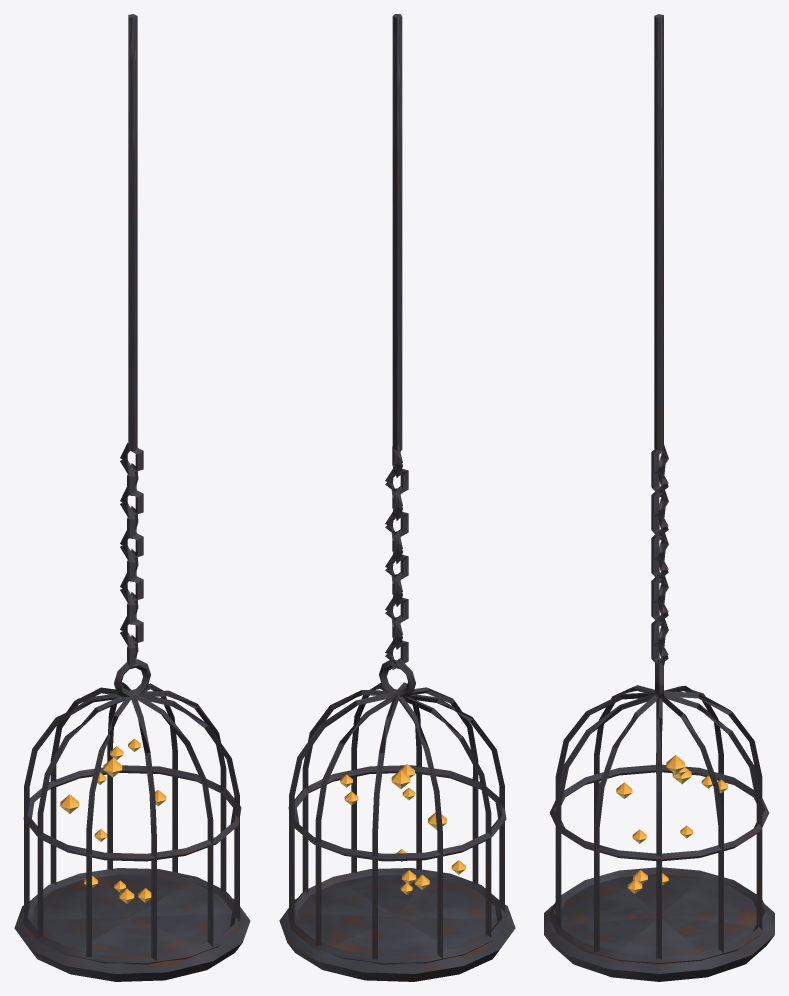
File: Lamp_Fireflies.fbx
The picture shows the model from 3 angles, left to right: view 1: azimuth 30°, elevation 25°; view 2: azimuth 150°, elevation 25°; view 3: azimuth 270°, elevation 25°; orthographic projection.
Visible parts, largest first — view 1: Lamp_Fireflies; view 2: Lamp_Fireflies; view 3: Lamp_Fireflies.
Part boxes in pixels (x1,y1,x2,y2): Lamp_Fireflies: [14, 14, 250, 981]; Lamp_Fireflies: [279, 14, 515, 981]; Lamp_Fireflies: [544, 14, 774, 981].
Size of the model in its own units: 0.56 by 2.4 by 0.546.
2 materials, 2 textured.
